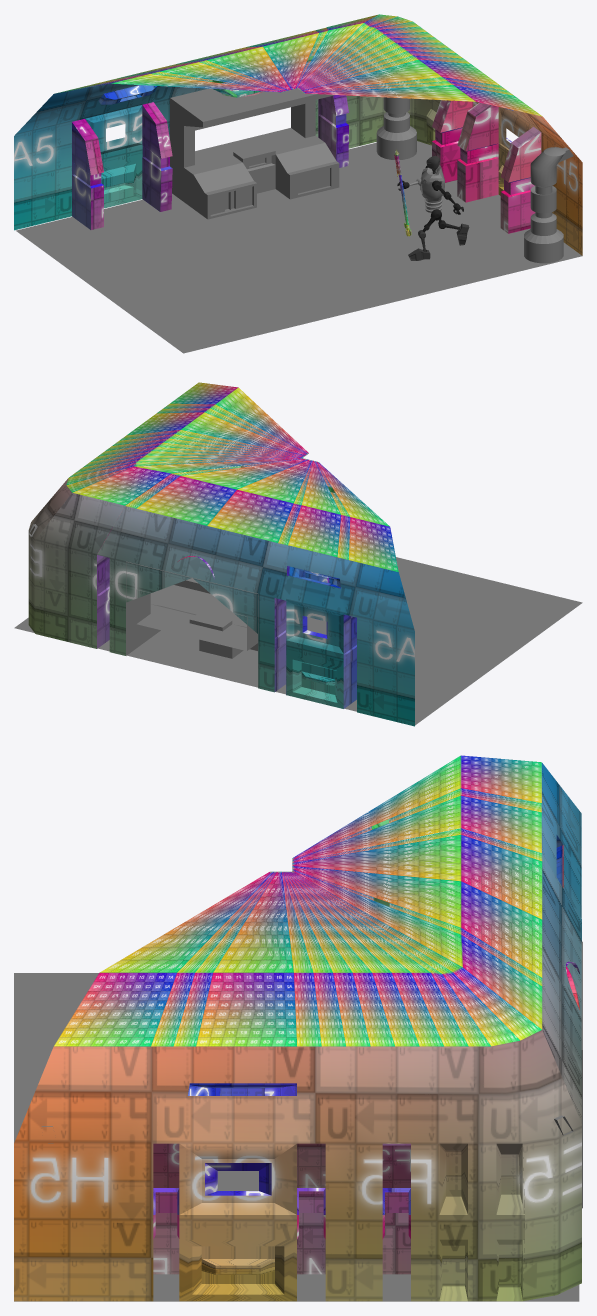
The model's file is FullScene.obj.
The picture shows the model from 3 angles, top to bottom: view 1: azimuth 30°, elevation 25°; view 2: azimuth 150°, elevation 25°; view 3: azimuth 270°, elevation 25°; orthographic projection. The views are drawn at different scales.
Visible parts, largest first — view 1: pPlane1 group1, pPlane2, group1 pCube1, pasted__pasted__pasted__pCylinder1 pasted__pasted__group pasted_, pasted__pasted__pCylinder1 pasted__group group5, RobotWithStaff:Body RobotWithStaff:Robot RobotWithStaff:Torso Ro; view 2: pPlane1 group1, pPlane2, group1 pCube1; view 3: pPlane1 group1, pPlane2.
Boxes of the visible parts, x1,y1,x2,y2 form: pPlane1 group1: (14, 14, 582, 255); pPlane2: (16, 141, 582, 353); group1 pCube1: (170, 88, 339, 219); pasted__pasted__pasted__pCylinder1 pasted__pasted__group pasted_: (524, 147, 573, 263); pasted__pasted__pCylinder1 pasted__group group5: (376, 97, 416, 159); RobotWithStaff:Body RobotWithStaff:Robot RobotWithStaff:Torso Ro: (420, 165, 444, 212); pPlane1 group1: (28, 382, 414, 726); pPlane2: (14, 557, 582, 725); group1 pCube1: (126, 561, 258, 687); pPlane1 group1: (14, 755, 581, 1301); pPlane2: (14, 973, 579, 1301).
Size of the model in its own units: 1587 by 602 by 1159.
Materials: 14 (3 with a texture image).
